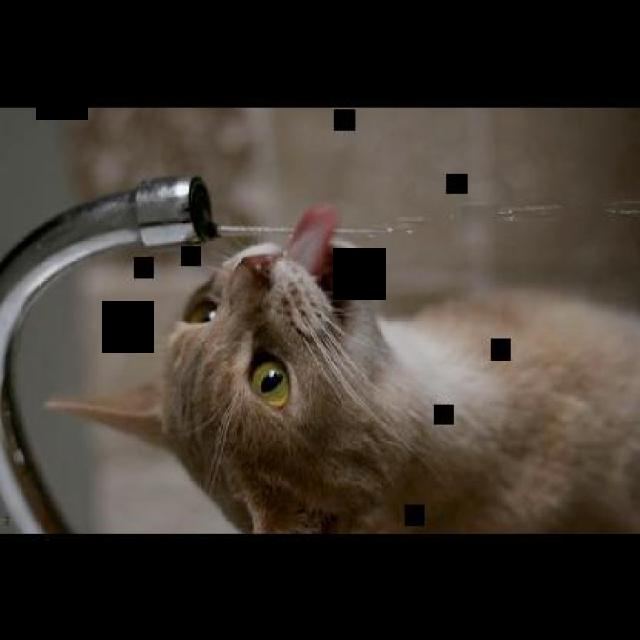unauthorized: (43, 203, 639, 534)
